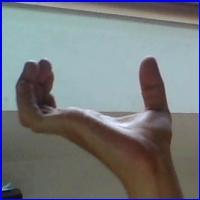B: (9, 48, 178, 175)
